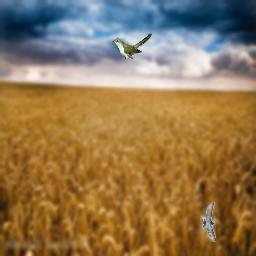Cuckoo: (112, 33, 152, 59)
Swallow: (200, 202, 216, 242)
